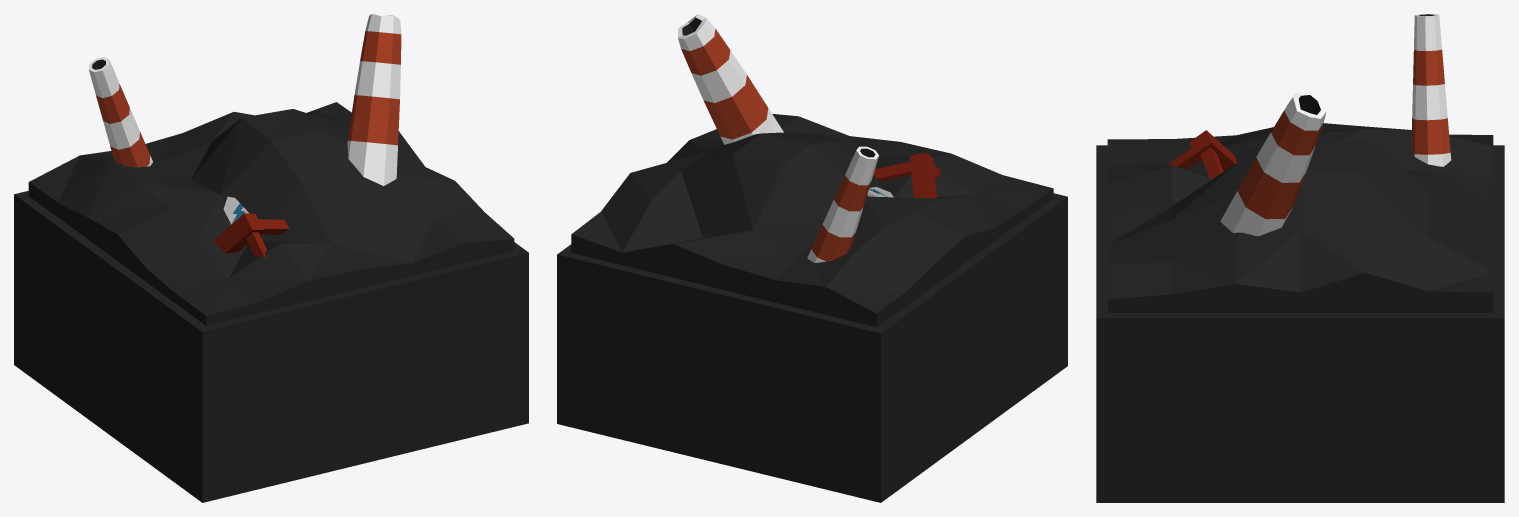
The model's file is Construccion2Destruida.fbx.
3 views of the same model, side by side, from view 1: azimuth 30°, elevation 25°; view 2: azimuth 150°, elevation 25°; view 3: azimuth 270°, elevation 25° (orthographic). The views are drawn at different scales.
Parts seen in each view (by area): view 1: Cube.003; view 2: Cube.003; view 3: Cube.003.
Part boxes in pixels (box(x1,y1,x2,y2)): Cube.003: box(14, 14, 528, 502); Cube.003: box(557, 14, 1067, 502); Cube.003: box(1096, 14, 1504, 502).
Size of the model in its own units: 200 by 206 by 200.
1 material, 1 textured.
